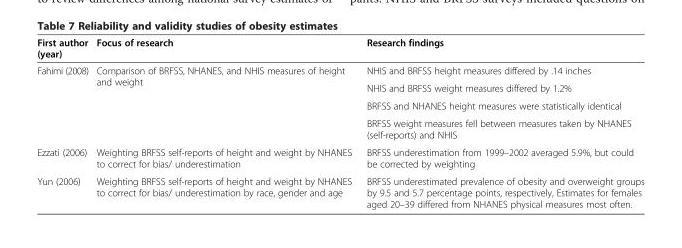table: (36, 36, 643, 209)
table column: (358, 36, 643, 209), (91, 36, 358, 209), (36, 36, 91, 209)
table column header: (36, 36, 643, 61)
table row: (36, 172, 643, 209), (36, 114, 643, 143), (36, 143, 643, 172), (36, 36, 643, 61), (36, 78, 643, 96), (36, 96, 643, 114), (36, 61, 643, 78)
table spanning cell: (91, 61, 358, 143), (36, 61, 91, 143)
